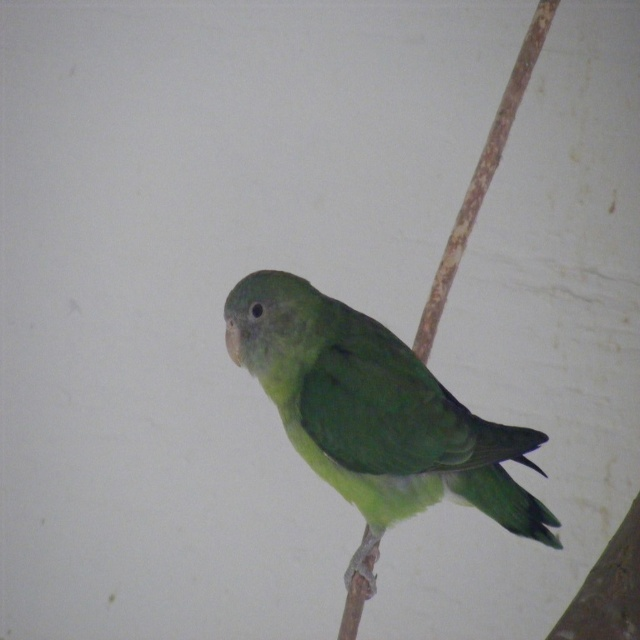Parrot: (225, 266, 570, 598)
